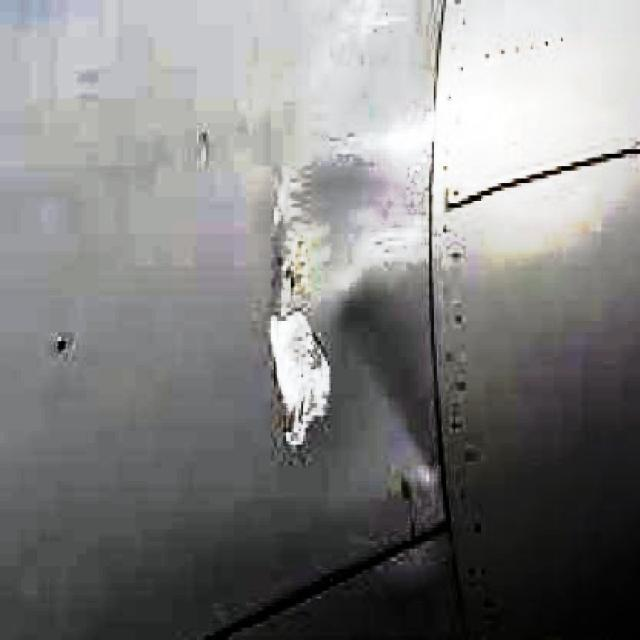dent: (282, 152, 415, 298), (346, 289, 439, 477), (250, 286, 338, 451)
